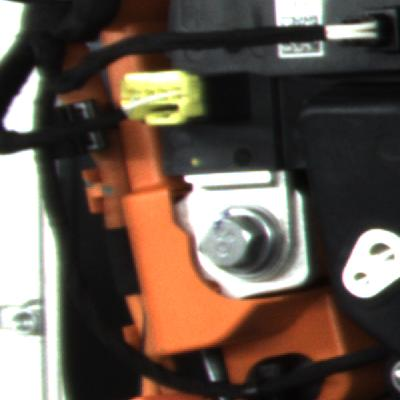nut_b: (194, 201, 288, 285)
